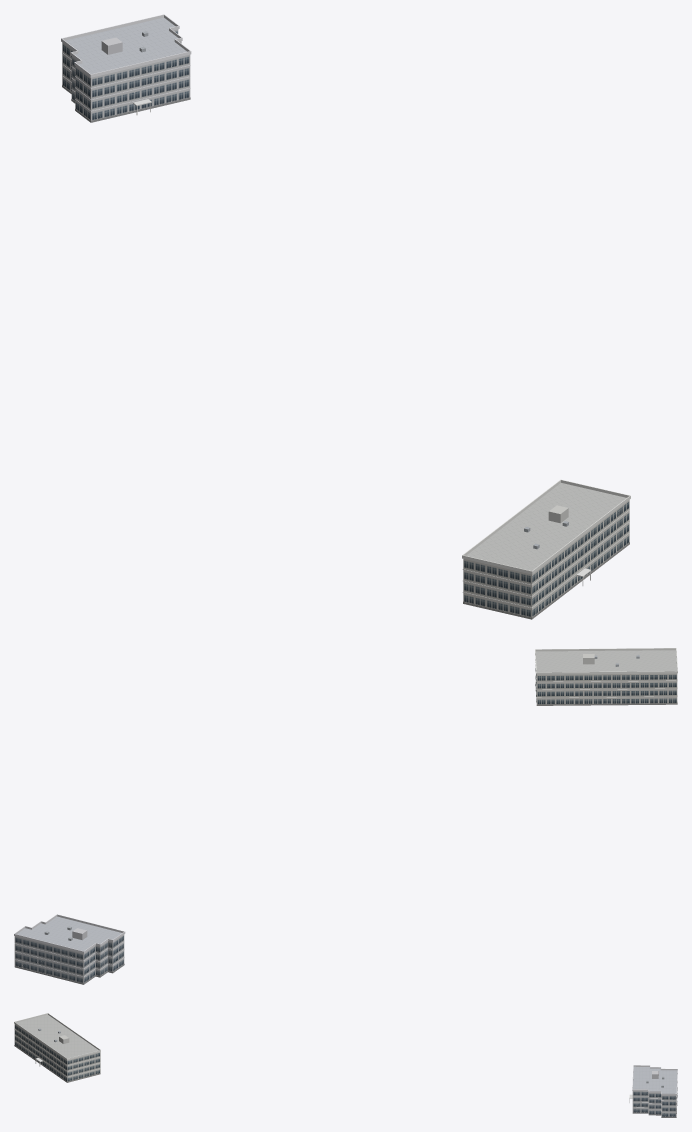
The picture shows the model from 3 angles, top to bottom: view 1: azimuth 30°, elevation 25°; view 2: azimuth 150°, elevation 25°; view 3: azimuth 270°, elevation 25°; orthographic projection. The views are drawn at different scales.
Parts seen in each view (by area): view 1: 1321673135, 1417005196; view 2: 1321673135, 1417005196; view 3: 1321673135, 1417005196.
Boxes of the visible parts, x1,y1,x2,y2 form: 1321673135: [462, 479, 630, 619]; 1417005196: [61, 14, 191, 122]; 1321673135: [535, 648, 677, 705]; 1417005196: [14, 914, 125, 984]; 1321673135: [14, 1013, 100, 1082]; 1417005196: [629, 1065, 677, 1117].
Bounding box in the file's own units: 114 × 18 × 395.
3 materials, 2 textured.
